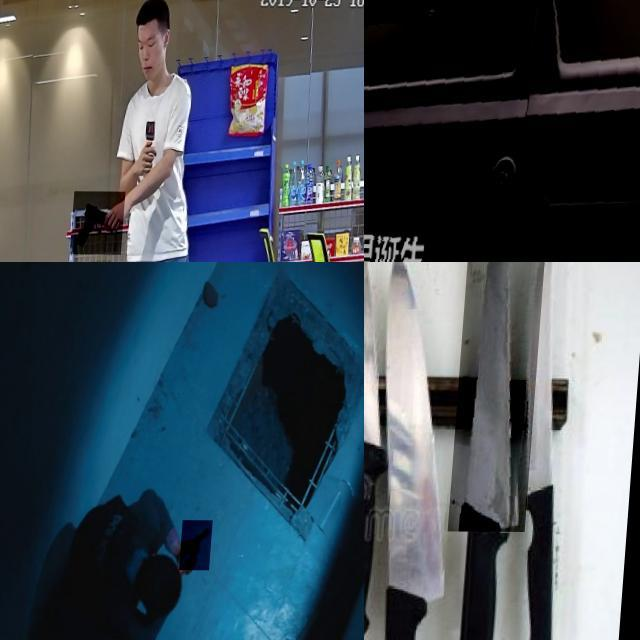-: (364, 262, 480, 622), (453, 262, 550, 531)
gun-knife-thesis - v11 Yolov5 augmented: (364, 0, 640, 262), (74, 191, 128, 254), (186, 520, 219, 570)
